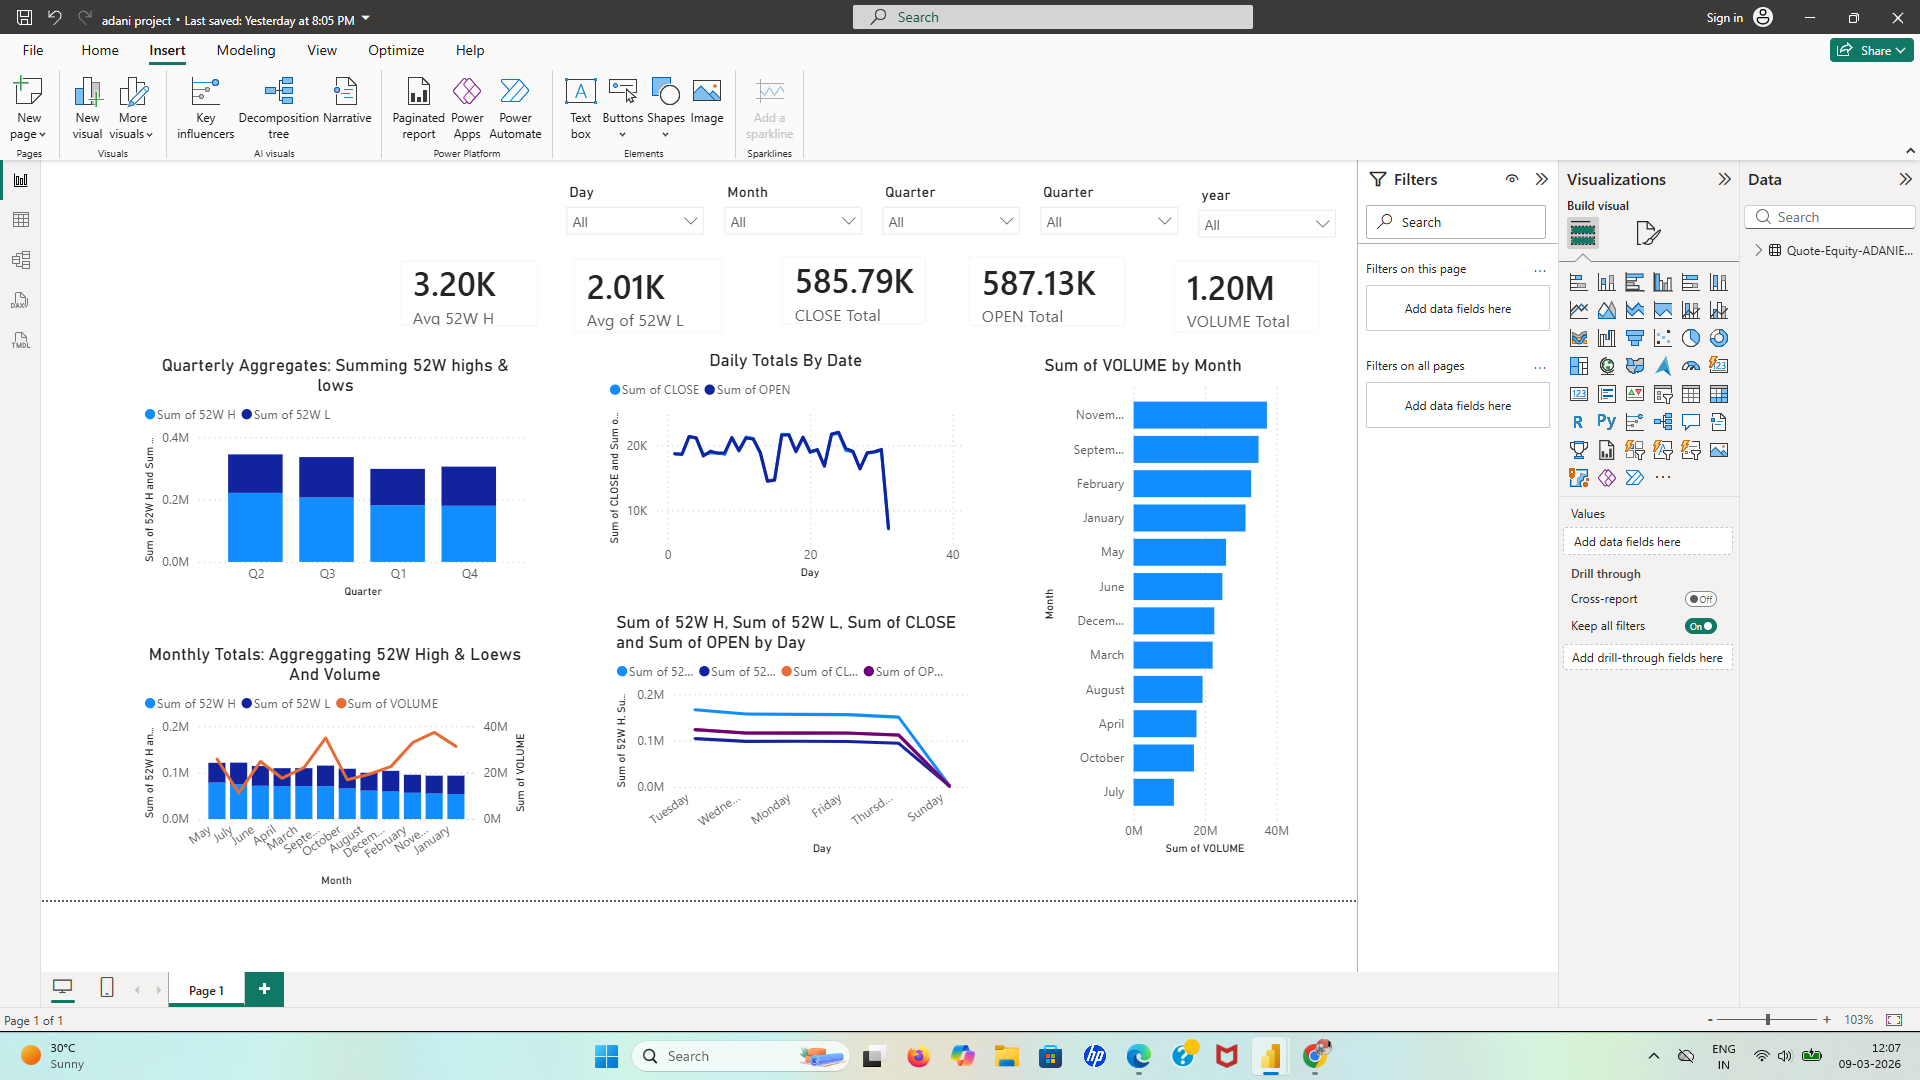

What the dashboard file says about the page in this screenshot:
{"tool":"powerbi","page":{"name":"Page 1","canvas":[1280,720],"ordinal":0},"visuals":[{"type":"slicer","fields":{"Values":["Quote-Equity-ADANIENT-EQ-01-03-2025-01-03-2026.Month"]},"box":[654.6,17.5,153.7,67.1],"z":0},{"type":"slicer","fields":{"Values":["Quote-Equity-ADANIENT-EQ-01-03-2025-01-03-2026.Day"]},"box":[500.9,17.5,153.7,67.1],"z":1000},{"type":"slicer","fields":{"Values":["Quote-Equity-ADANIENT-EQ-01-03-2025-01-03-2026.Quarter"]},"box":[808.3,17.5,153.7,67.1],"z":2000},{"type":"slicer","fields":{"Values":["Quote-Equity-ADANIENT-EQ-01-03-2025-01-03-2026.Quarter"]},"box":[961.9,17.5,153.7,67.1],"z":3000},{"type":"slicer","fields":{"Values":["Quote-Equity-ADANIENT-EQ-01-03-2025-01-03-2026.year"]},"box":[1115.6,20.4,153.7,67.1],"z":4000},{"type":"cardVisual","title":"Avg of 52WH","fields":{"Data":["Avg(Quote-Equity-ADANIENT-EQ-01-03-2025-01-03-2026.52W H)"]},"box":[302.5,72,182.9,105],"z":5000},{"type":"cardVisual","title":"Avg of 52WL","fields":{"Data":["Avg(Quote-Equity-ADANIENT-EQ-01-03-2025-01-03-2026.52W L)"]},"box":[500.9,78.8,179.9,106],"z":6000},{"type":"cardVisual","title":"Close Total","fields":{"Data":["Sum(Quote-Equity-ADANIENT-EQ-01-03-2025-01-03-2026.CLOSE)"]},"box":[703.2,76.8,175.1,100.2],"z":6001},{"type":"cardVisual","title":"Open Total","fields":{"Data":["Sum(Quote-Equity-ADANIENT-EQ-01-03-2025-01-03-2026.OPEN)"]},"box":[885.1,76.8,187.7,102.1],"z":6002},{"type":"cardVisual","title":" VolumeTotal ","fields":{"Data":["Avg(Quote-Equity-ADANIENT-EQ-01-03-2025-01-03-2026.VOLUME)"]},"box":[1084.5,80.7,176,104.1],"z":6003},{"type":"columnChart","title":"Quarterly Aggregates: Summing 52W highs & lows","fields":{"Y":["Sum(Quote-Equity-ADANIENT-EQ-01-03-2025-01-03-2026.52W H)","Sum(Quote-Equity-ADANIENT-EQ-01-03-2025-01-03-2026.52W L)"],"Category":["Quote-Equity-ADANIENT-EQ-01-03-2025-01-03-2026.Quarter"]},"box":[95.3,189.7,382.2,240.2],"z":6004},{"type":"lineStackedColumnComboChart","title":"Monthly Totals: Aggreggating 52W High & Loews And Volume","fields":{"Y":["Sum(Quote-Equity-ADANIENT-EQ-01-03-2025-01-03-2026.52W H)","Sum(Quote-Equity-ADANIENT-EQ-01-03-2025-01-03-2026.52W L)"],"Category":["Quote-Equity-ADANIENT-EQ-01-03-2025-01-03-2026.Month"],"Y2":["Sum(Quote-Equity-ADANIENT-EQ-01-03-2025-01-03-2026.VOLUME)"]},"box":[95.3,470.8,381.3,240.2],"z":6005},{"type":"lineChart","title":"Daily Totals By Date","fields":{"Y":["Sum(Quote-Equity-ADANIENT-EQ-01-03-2025-01-03-2026.CLOSE)","Sum(Quote-Equity-ADANIENT-EQ-01-03-2025-01-03-2026.OPEN)"],"Category":["Quote-Equity-ADANIENT-EQ-01-03-2025-01-03-2026.DATE.Variation.Date Hierarchy.Day"]},"box":[547.6,184.8,354,226.6],"z":6006},{"type":"lineChart","fields":{"Y":["Sum(Quote-Equity-ADANIENT-EQ-01-03-2025-01-03-2026.52W H)","Sum(Quote-Equity-ADANIENT-EQ-01-03-2025-01-03-2026.52W L)","Sum(Quote-Equity-ADANIENT-EQ-01-03-2025-01-03-2026.CLOSE)","Sum(Quote-Equity-ADANIENT-EQ-01-03-2025-01-03-2026.OPEN)"],"Category":["Quote-Equity-ADANIENT-EQ-01-03-2025-01-03-2026.Day"]},"box":[554.4,439.6,354,240.2],"z":6007},{"type":"clusteredBarChart","fields":{"Category":["Quote-Equity-ADANIENT-EQ-01-03-2025-01-03-2026.Month"],"Y":["Sum(Quote-Equity-ADANIENT-EQ-01-03-2025-01-03-2026.VOLUME)"]},"box":[970.7,189.7,248,490.2],"z":6008},{"type":"image","box":[95,27,207,150],"z":6009},{"type":"image","box":[100,100,300,300],"z":6010}]}

Visuals, with their boxes on the page's 1280x720 design canvas (x1, y1, x2, y2). These are canvas units, not pixel positions in the 1920x1080 screenshot, which may show the page scaled, cropped or inside an application window:
slicer - Quote-Equity-ADANIENT-EQ-01-03-2025-01-03-2026.Month: 655:18:808:85
slicer - Quote-Equity-ADANIENT-EQ-01-03-2025-01-03-2026.Day: 501:18:655:85
slicer - Quote-Equity-ADANIENT-EQ-01-03-2025-01-03-2026.Quarter: 808:18:962:85
slicer - Quote-Equity-ADANIENT-EQ-01-03-2025-01-03-2026.Quarter: 962:18:1116:85
slicer - Quote-Equity-ADANIENT-EQ-01-03-2025-01-03-2026.year: 1116:20:1269:88
"Avg of 52WH" cardVisual: 302:72:485:177
"Avg of 52WL" cardVisual: 501:79:681:185
"Close Total" cardVisual: 703:77:878:177
"Open Total" cardVisual: 885:77:1073:179
" VolumeTotal " cardVisual: 1084:81:1260:185
"Quarterly Aggregates: Summing 52W highs & lows" columnChart: 95:190:478:430
"Monthly Totals: Aggreggating 52W High & Loews And Volume" lineStackedColumnComboChart: 95:471:477:711
"Daily Totals By Date" lineChart: 548:185:902:411
lineChart - Sum(Quote-Equity-ADANIENT-EQ-01-03-2025-01-03-2026.52W H) x Sum(Quote-Equity-ADANIENT-EQ-01-03-2025-01-03-2026.52W L): 554:440:908:680
clusteredBarChart - Quote-Equity-ADANIENT-EQ-01-03-2025-01-03-2026.Month x Sum(Quote-Equity-ADANIENT-EQ-01-03-2025-01-03-2026.VOLUME): 971:190:1219:680
image: 95:27:302:177
image: 100:100:400:400
